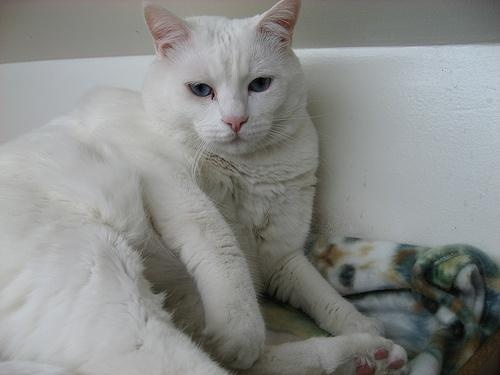cat: (1, 1, 407, 375)
